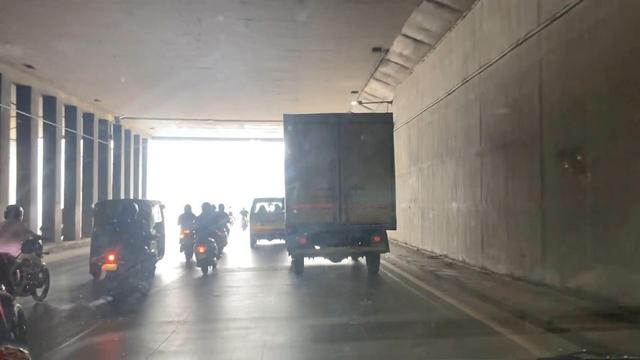HMV: (286, 111, 397, 273)
LMV: (100, 208, 157, 302), (190, 198, 222, 276), (251, 198, 280, 247)
